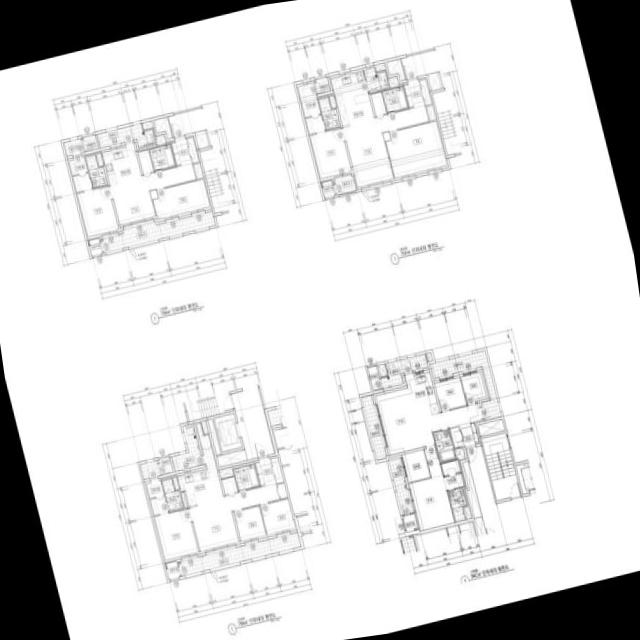background: (0, 0, 640, 640)
space_balconi: (177, 532, 301, 576), (431, 350, 501, 420), (100, 211, 215, 253), (361, 394, 386, 460), (380, 354, 428, 388), (171, 423, 203, 471), (97, 123, 155, 148), (389, 457, 413, 515), (364, 67, 389, 92), (333, 174, 356, 194), (63, 138, 84, 156)
space_bedroom: (409, 446, 454, 530), (385, 121, 446, 178), (154, 508, 198, 560), (153, 179, 209, 219), (77, 186, 118, 236), (310, 128, 351, 178), (260, 498, 295, 534), (234, 506, 266, 541), (434, 377, 466, 411), (460, 372, 486, 404)
space_dressroom: (298, 83, 325, 134), (69, 155, 92, 192), (146, 478, 168, 515), (441, 460, 464, 490)
space_elevator: (214, 413, 242, 452)
space_elevator_hall: (231, 387, 274, 460)
space_front: (403, 78, 431, 108), (171, 136, 198, 167), (255, 456, 276, 486), (459, 422, 479, 445)
space_kitchen: (177, 423, 223, 505), (330, 70, 374, 126), (404, 371, 439, 419), (101, 142, 141, 184)
space_living_room: (342, 105, 428, 187), (375, 388, 481, 454), (189, 483, 280, 551), (109, 163, 196, 224)
space_multipurpose_space: (402, 449, 430, 482)
space_other: (462, 461, 482, 518), (139, 457, 173, 479), (216, 449, 247, 467), (207, 419, 220, 455), (478, 419, 504, 436), (370, 91, 386, 116), (154, 117, 172, 139), (387, 59, 405, 81), (138, 149, 153, 174), (367, 366, 381, 391), (271, 457, 283, 483), (221, 476, 237, 494), (450, 426, 463, 447), (194, 130, 209, 148), (82, 135, 98, 151), (314, 77, 330, 93), (427, 72, 441, 90), (277, 483, 287, 499), (193, 163, 202, 179), (219, 468, 233, 478), (426, 105, 435, 120), (454, 447, 464, 459), (378, 364, 387, 376), (142, 121, 153, 130), (463, 506, 470, 519), (96, 153, 103, 166), (201, 421, 208, 434), (329, 95, 336, 108), (181, 492, 187, 507), (155, 136, 165, 145), (388, 78, 398, 87), (172, 477, 179, 489), (375, 64, 385, 72), (426, 352, 432, 361)
space_outdoor_room: (403, 513, 418, 532), (320, 180, 335, 198), (87, 238, 102, 256)
space_staircase: (481, 433, 521, 500)
space_toilet: (433, 429, 456, 462), (318, 96, 340, 130), (161, 478, 183, 511), (85, 155, 107, 188), (382, 86, 408, 113), (149, 144, 175, 171), (233, 464, 259, 491), (448, 487, 466, 522)
